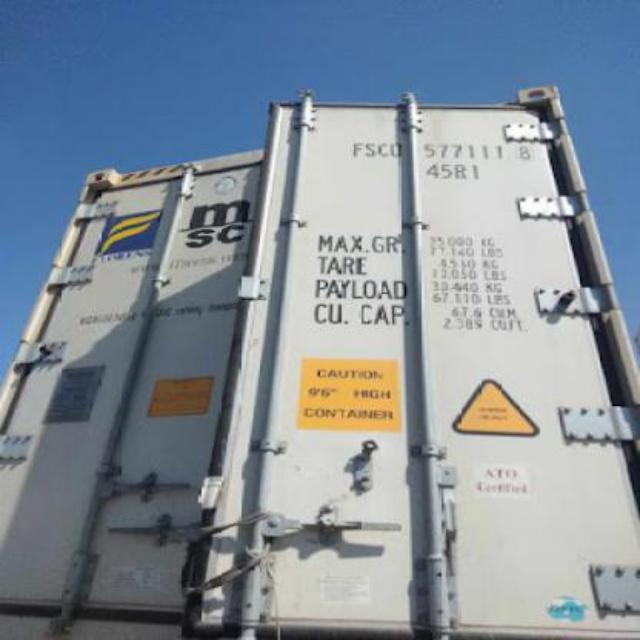1: (492, 140, 508, 170), (476, 134, 492, 162), (464, 134, 478, 162)
5: (422, 138, 436, 164)
7: (451, 136, 464, 162), (436, 140, 448, 160)
8: (516, 140, 536, 164)
C: (374, 136, 388, 166)
F: (348, 134, 362, 162)
S: (362, 135, 378, 167)
U: (386, 138, 404, 166)
